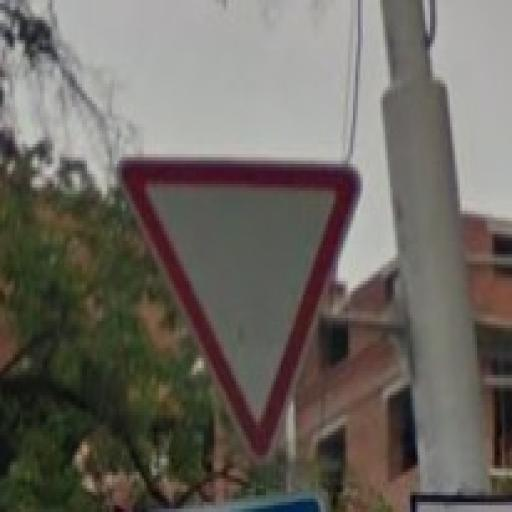traffic_sign: (118, 158, 361, 466)
